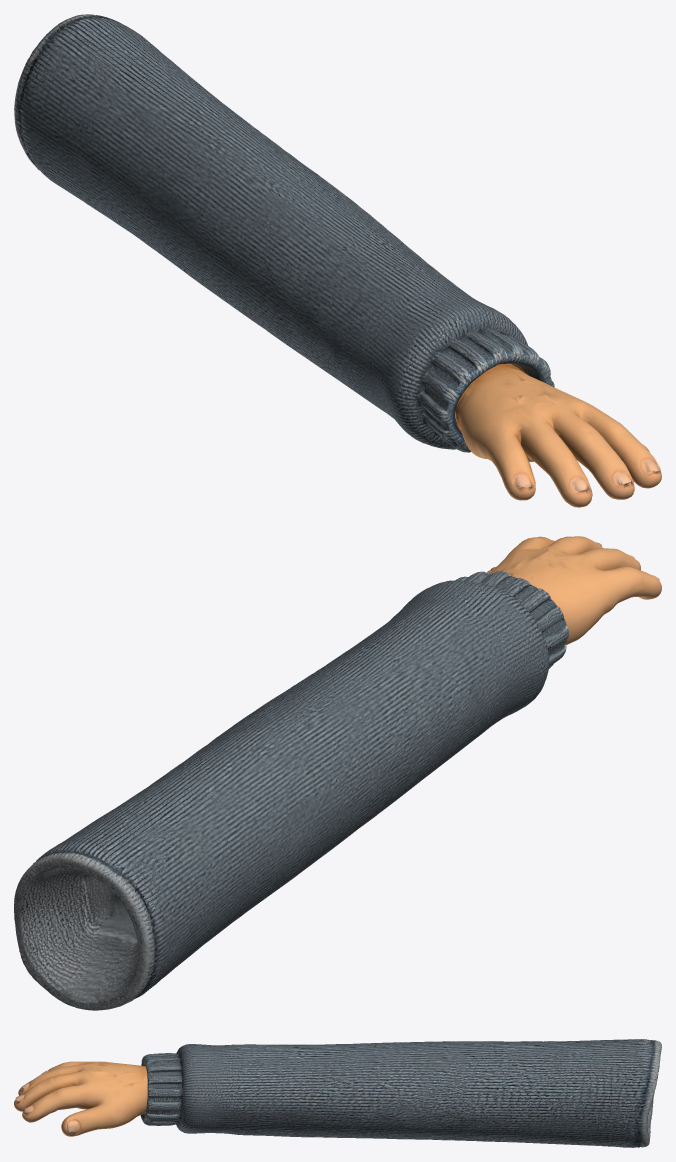
Rendered from hand.medium.glb.
3 views of the same model, one above another, from view 1: azimuth 30°, elevation 25°; view 2: azimuth 150°, elevation 25°; view 3: azimuth 270°, elevation 25° (orthographic). The views are drawn at different scales.
Visible parts, largest first — view 1: tripo_node_8442767b-0a98-456e-8964-27694c30c98e; view 2: tripo_node_8442767b-0a98-456e-8964-27694c30c98e; view 3: tripo_node_8442767b-0a98-456e-8964-27694c30c98e.
Part boxes in pixels (x1,y1,x2,y2): tripo_node_8442767b-0a98-456e-8964-27694c30c98e: (14, 14, 661, 507); tripo_node_8442767b-0a98-456e-8964-27694c30c98e: (14, 536, 661, 1010); tripo_node_8442767b-0a98-456e-8964-27694c30c98e: (14, 1039, 661, 1147).
Bounding box in the file's own units: 0.133 × 0.13 × 0.7759.
1 material, 1 textured.
